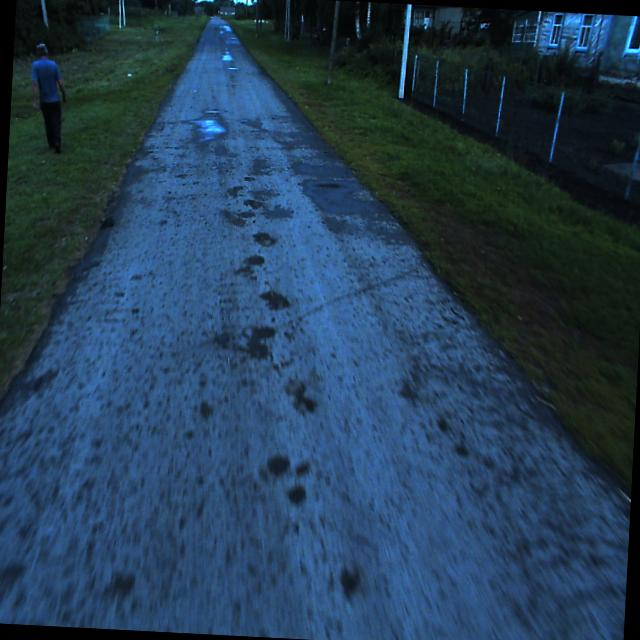road: (0, 16, 630, 640)
